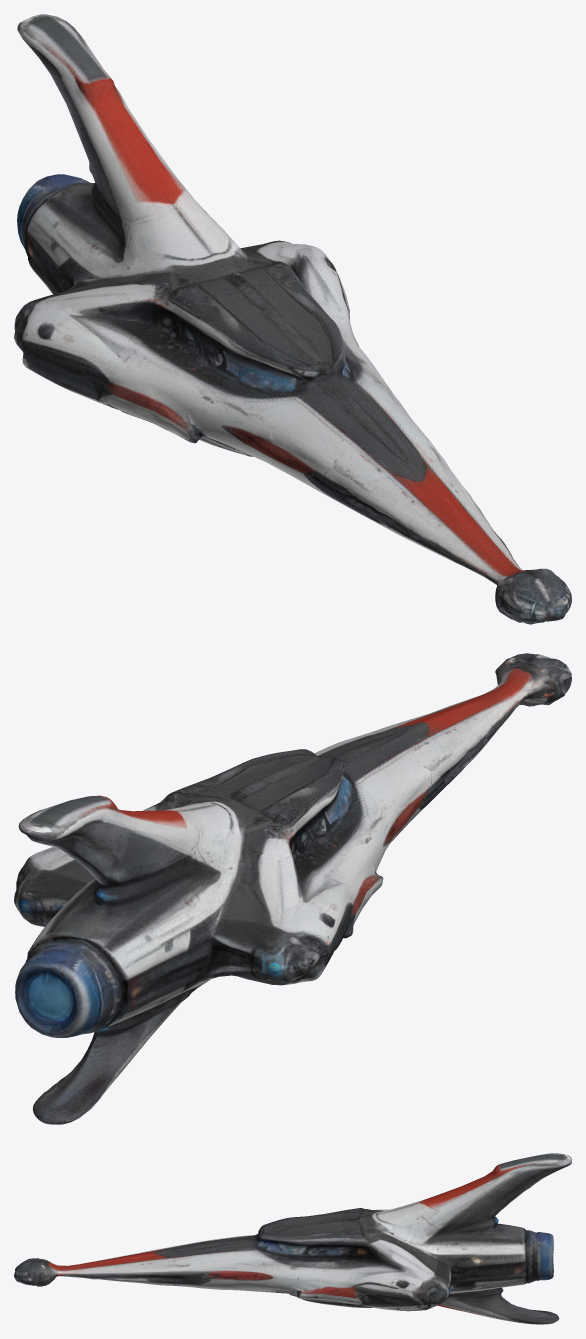
Rendered from starpiercer_lod0.glb.
3 views of the same model, one above another, from view 1: azimuth 30°, elevation 25°; view 2: azimuth 150°, elevation 25°; view 3: azimuth 270°, elevation 25° (orthographic). The views are drawn at different scales.
Visible parts, largest first — view 1: LOD0_BODY; view 2: LOD0_BODY; view 3: LOD0_BODY.
Boxes of the visible parts, x1,y1,x2,y2 form: LOD0_BODY: (14,14,571,624); LOD0_BODY: (14,653,571,1124); LOD0_BODY: (14,1153,571,1324).
Bounding box in the file's own units: 0.679 × 0.6563 × 2.
1 material, 1 textured.
